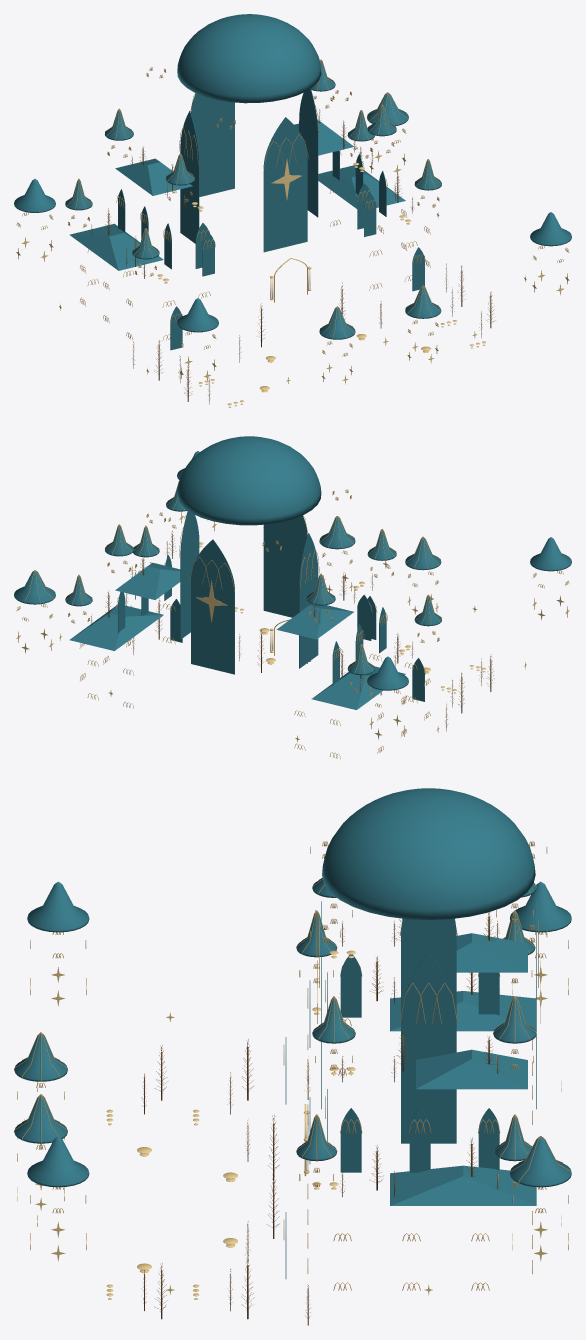
Rendered from Catalog-35.glb.
3 views of the same model, one above another, from view 1: azimuth 30°, elevation 25°; view 2: azimuth 150°, elevation 25°; view 3: azimuth 270°, elevation 25° (orthographic). The views are drawn at different scales.
Parts seen in each view (by area): view 1: Teal Enamel Roof, Aged Gold, Polished Gold Edge, Dark Walnut; view 2: Teal Enamel Roof, Aged Gold, Polished Gold Edge, Dark Walnut; view 3: Teal Enamel Roof, Aged Gold, Dark Walnut, Polished Gold Edge.
Boxes of the visible parts, x1=… form: Teal Enamel Roof: x1=14, y1=14, x2=571, y2=350; Aged Gold: x1=16, y1=59, x2=569, y2=356; Polished Gold Edge: x1=16, y1=151, x2=569, y2=407; Dark Walnut: x1=91, y1=109, x2=495, y2=404; Teal Enamel Roof: x1=14, y1=436, x2=571, y2=709; Aged Gold: x1=16, y1=481, x2=569, y2=759; Polished Gold Edge: x1=16, y1=512, x2=569, y2=741; Dark Walnut: x1=90, y1=531, x2=494, y2=731; Teal Enamel Roof: x1=14, y1=788, x2=571, y2=1278; Aged Gold: x1=14, y1=841, x2=571, y2=1290; Dark Walnut: x1=141, y1=912, x2=499, y2=1325; Polished Gold Edge: x1=17, y1=950, x2=568, y2=1299.
Size of the model in its own units: 77.2 by 52.78 by 64.76.
